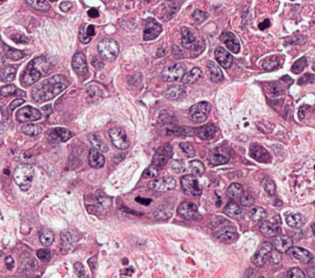nucleus: (31, 75, 68, 101), (20, 56, 49, 85), (181, 27, 204, 56), (86, 192, 110, 214), (188, 101, 210, 123), (268, 75, 292, 95), (152, 143, 172, 167), (97, 38, 118, 60), (259, 215, 280, 236), (109, 127, 129, 149), (161, 63, 185, 81), (214, 224, 237, 242), (181, 175, 201, 195), (220, 31, 239, 52), (249, 143, 270, 162), (143, 18, 161, 40), (148, 177, 175, 191), (177, 201, 198, 219), (88, 133, 107, 152), (48, 127, 72, 142), (209, 146, 229, 164), (215, 47, 232, 68), (72, 53, 87, 76), (273, 234, 292, 252), (262, 54, 283, 70), (207, 61, 223, 82), (194, 124, 216, 139), (161, 1, 178, 20), (182, 67, 201, 83), (88, 148, 104, 167), (164, 85, 185, 99), (61, 230, 76, 248), (227, 183, 243, 199), (291, 56, 306, 73), (224, 202, 241, 217), (166, 124, 189, 135), (286, 213, 304, 227), (249, 207, 266, 221), (39, 229, 53, 246), (262, 177, 275, 195), (26, 1, 49, 11), (189, 160, 204, 175), (154, 206, 171, 219), (192, 9, 207, 23), (180, 142, 195, 156), (143, 165, 160, 177), (79, 26, 90, 43), (239, 194, 253, 206), (298, 73, 313, 84), (91, 57, 103, 69), (298, 105, 308, 119), (172, 45, 183, 57), (60, 1, 72, 11), (85, 25, 94, 37), (135, 197, 150, 204), (259, 19, 269, 29), (88, 8, 98, 17), (157, 46, 166, 56)
